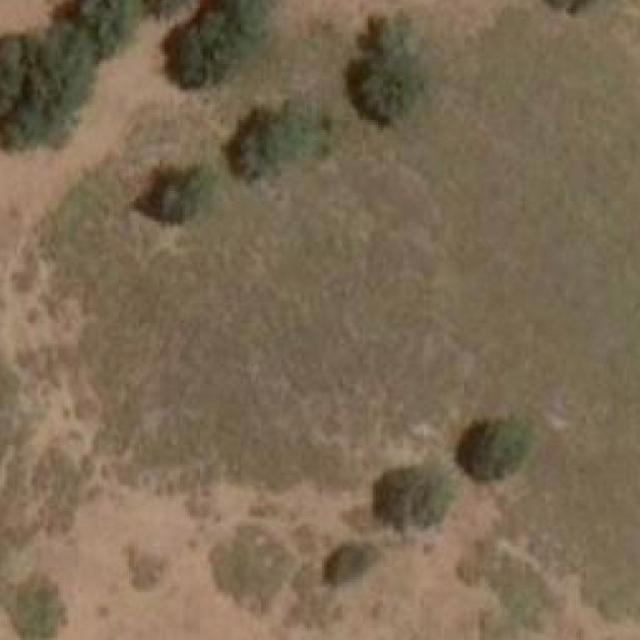Tree: (0, 27, 97, 154), (340, 13, 422, 123), (233, 102, 322, 184), (218, 516, 286, 608), (162, 11, 238, 93), (370, 460, 449, 531), (71, 0, 186, 44), (454, 422, 528, 483), (137, 170, 213, 222), (10, 574, 66, 640), (330, 544, 374, 582)
